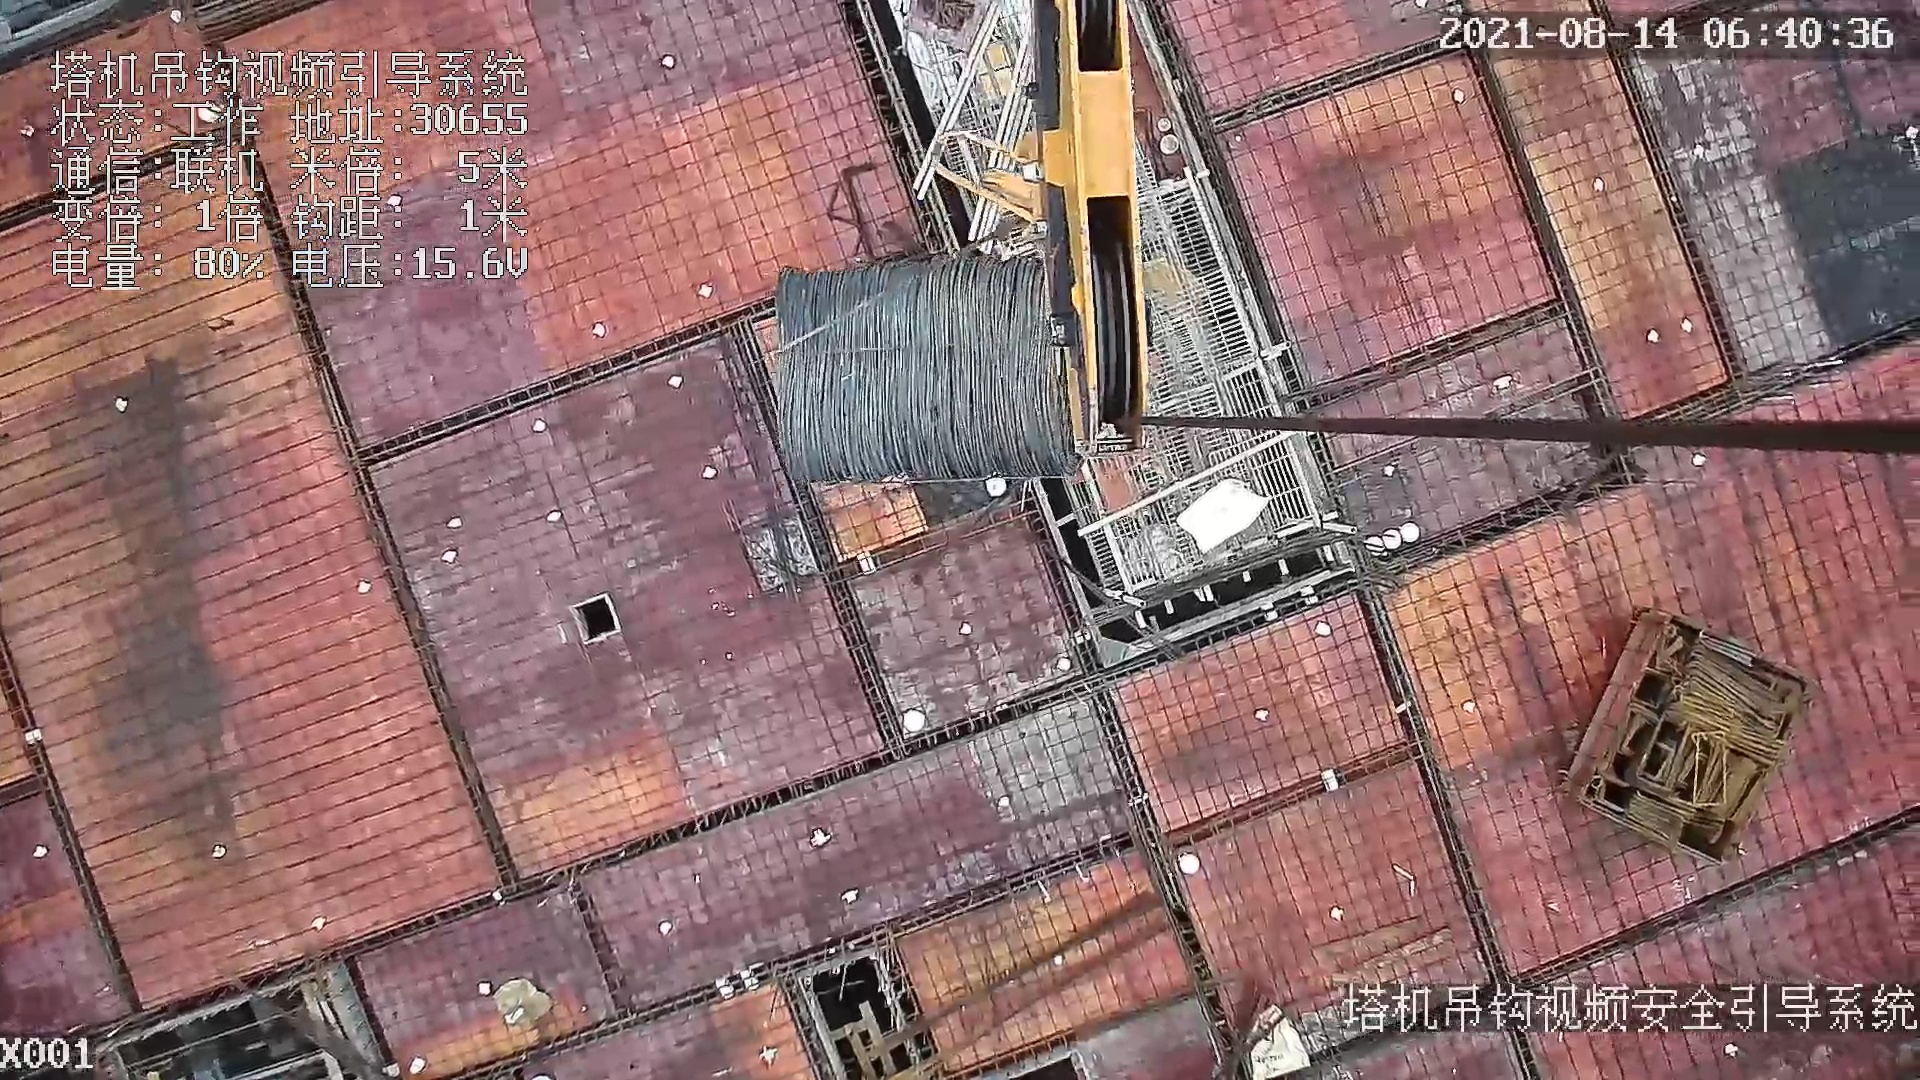hook: (940, 1, 1153, 442)
